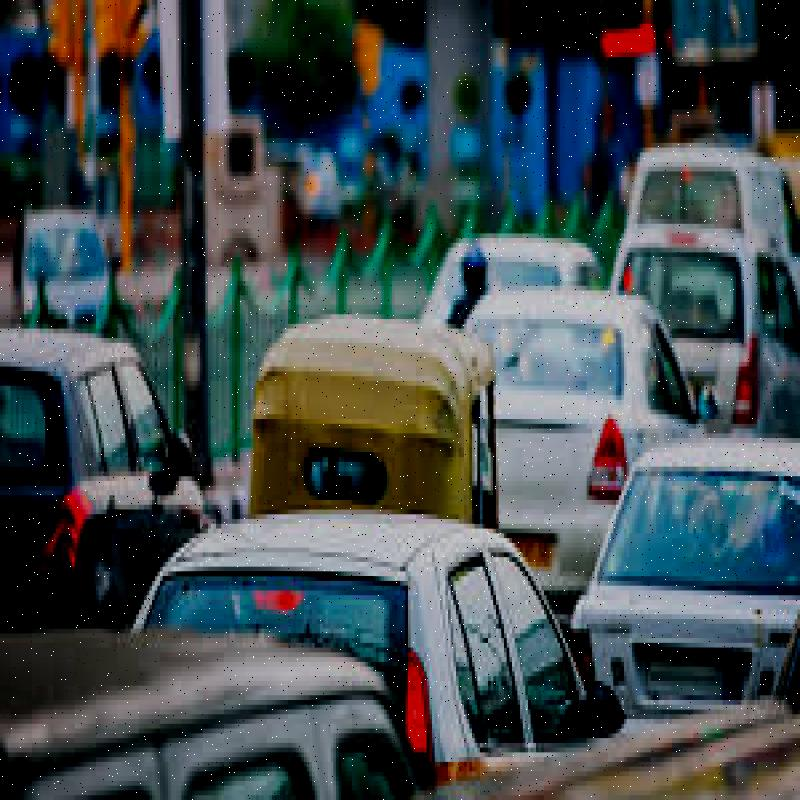auto: (238, 296, 488, 525)
car: (81, 493, 593, 800), (462, 272, 702, 598), (584, 429, 796, 766), (0, 314, 220, 621), (627, 199, 800, 452)
